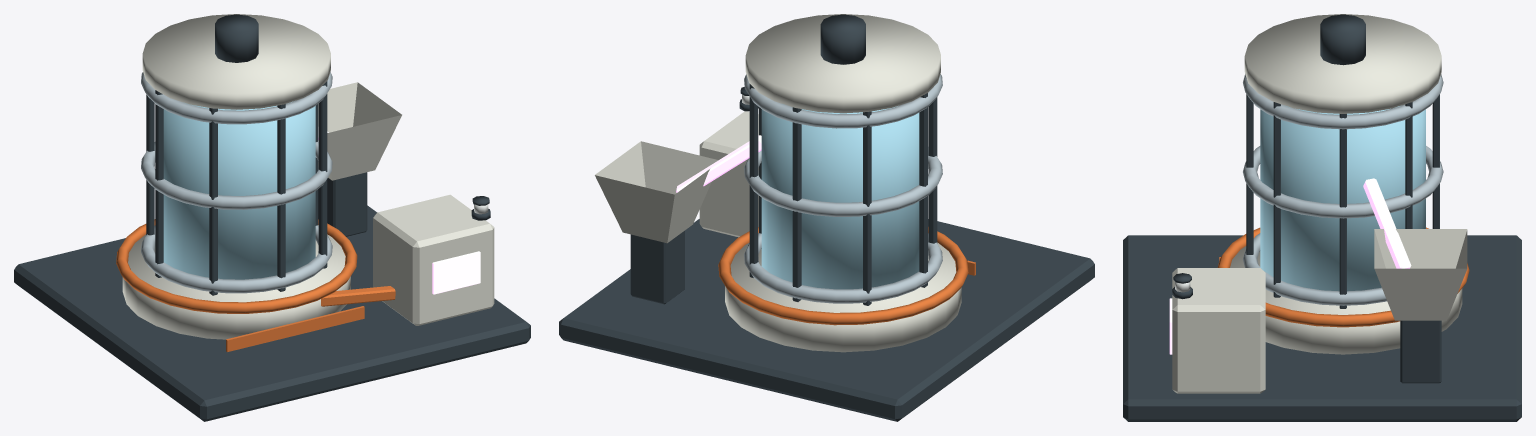
The model's file is bioreactor.glb.
3 renders of one model, left to right at view 1: azimuth 30°, elevation 25°; view 2: azimuth 150°, elevation 25°; view 3: azimuth 270°, elevation 25°, orthographic. The views are drawn at different scales.
Visible parts, largest first — view 1: bioreactor_dark, bioreactor_ivory, Level.002, bioreactor_metal, bioreactor_orange, bioreactor_violet; view 2: bioreactor_dark, bioreactor_ivory, Level.002, bioreactor_metal, bioreactor_orange, bioreactor_violet; view 3: bioreactor_dark, bioreactor_ivory, Level.002, bioreactor_metal, bioreactor_orange, bioreactor_violet.
Boxes of the visible parts, x1,y1,x2,y2 form: bioreactor_dark: (14, 14, 530, 421); bioreactor_ivory: (122, 14, 494, 339); Level.002: (163, 101, 315, 279); bioreactor_metal: (141, 72, 332, 293); bioreactor_orange: (116, 219, 395, 351); bioreactor_violet: (318, 127, 480, 294); bioreactor_dark: (559, 14, 1094, 421); bioreactor_ivory: (595, 14, 961, 352); Level.002: (761, 104, 919, 289); bioreactor_metal: (744, 74, 942, 303); bioreactor_orange: (718, 227, 975, 325); bioreactor_violet: (676, 135, 761, 192); bioreactor_dark: (1123, 14, 1521, 421); bioreactor_ivory: (1172, 14, 1467, 393); Level.002: (1260, 105, 1425, 291); bioreactor_metal: (1242, 74, 1443, 305); bioreactor_orange: (1217, 227, 1469, 327); bioreactor_violet: (1169, 178, 1411, 354).
Size of the model in its own units: 3.85 by 3.22 by 3.85.
